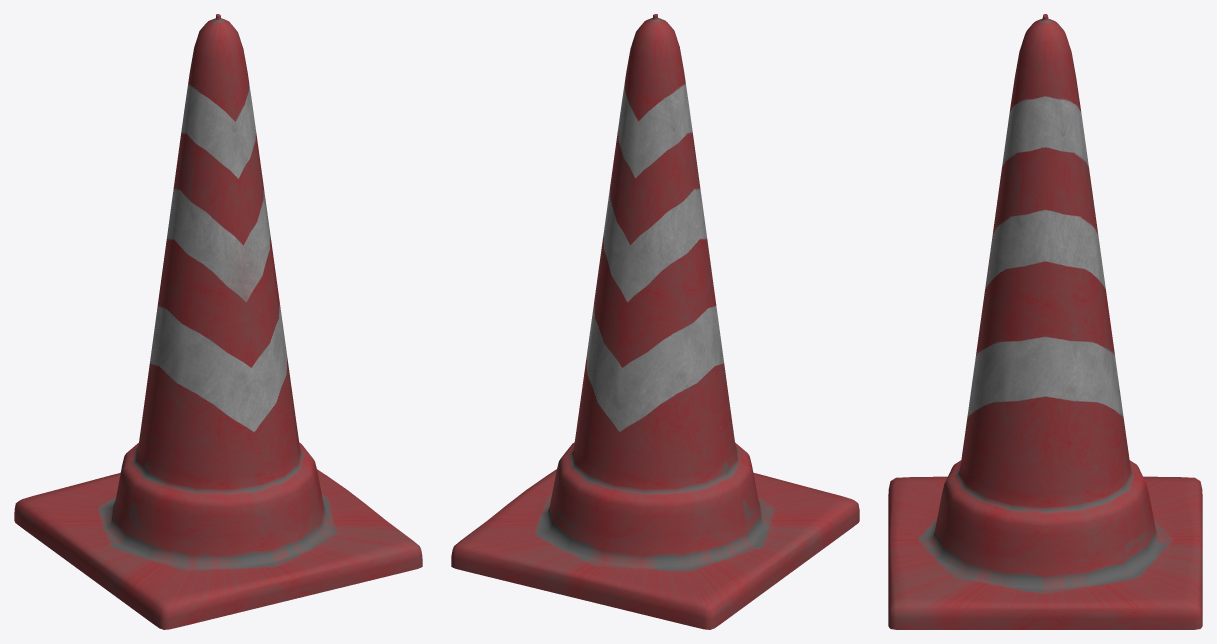
File: ColorCone_Scotch_Dirty_Red_NoWeight.fbx
The picture shows the model from 3 angles, left to right: view 1: azimuth 30°, elevation 25°; view 2: azimuth 150°, elevation 25°; view 3: azimuth 270°, elevation 25°; orthographic projection. The views are drawn at different scales.
Parts seen in each view (by area): view 1: ColorCone_Scotch_Dirty_Red_NoWeight; view 2: ColorCone_Scotch_Dirty_Red_NoWeight; view 3: ColorCone_Scotch_Dirty_Red_NoWeight.
Boxes of the visible parts, x1,y1,x2,y2 form: ColorCone_Scotch_Dirty_Red_NoWeight: (14, 14, 422, 629); ColorCone_Scotch_Dirty_Red_NoWeight: (451, 14, 859, 629); ColorCone_Scotch_Dirty_Red_NoWeight: (888, 14, 1202, 629).
Bounding box in the file's own units: 38 × 38 × 73.14.
1 material, 1 textured.
